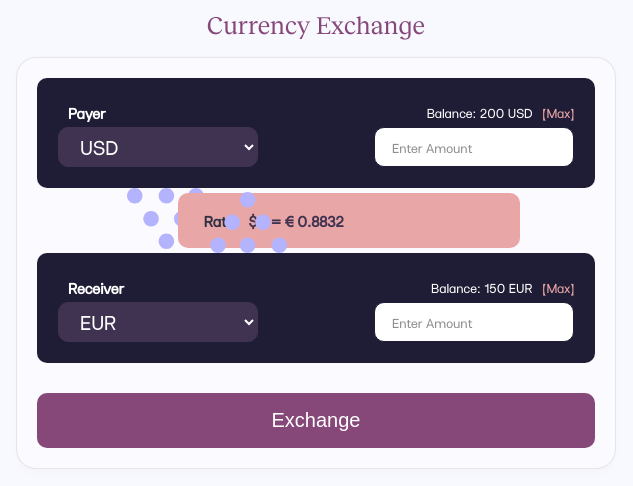
Test: should swap
Expected: the text "$ 1 = € 0.8832" is shown, [248, 212, 344, 230]
Step 1. Click the element named "swap" → (140, 220), box [107, 188, 173, 253]
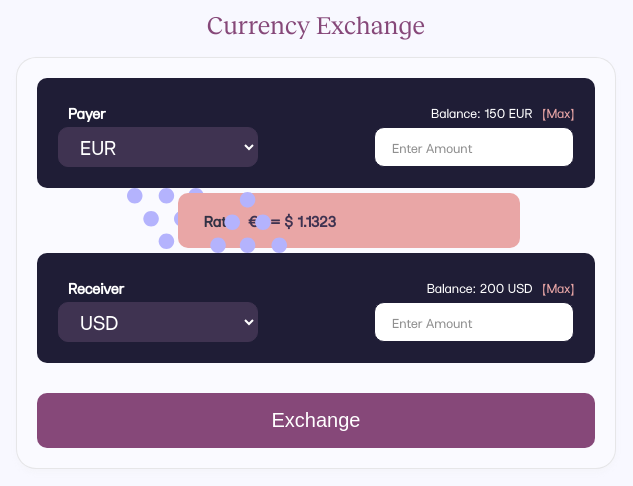
Expected: the dropdown labelled "Payer" shows "EUR", [58, 127, 258, 167]
Expected: the dropdown labelled "Receiver" shows "USD", [58, 302, 258, 342]
